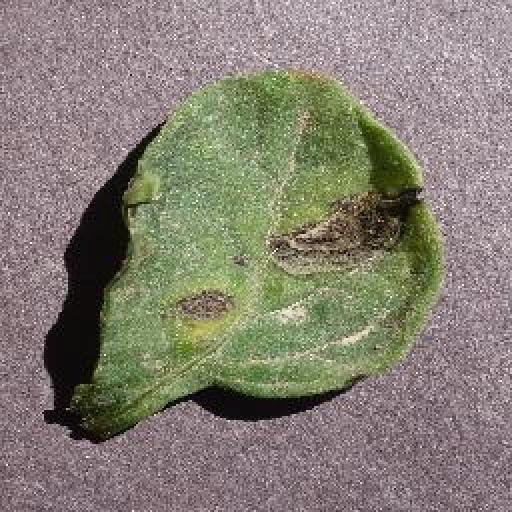Early Blight: (62, 67, 445, 437)
